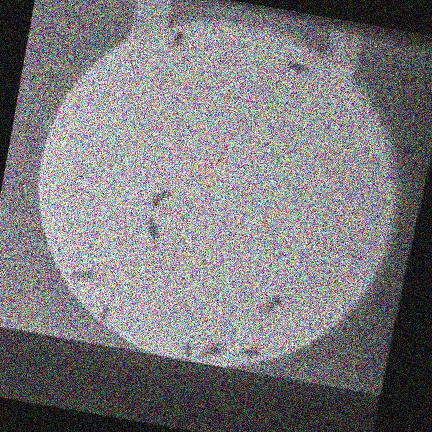fly: (259, 297, 281, 315), (148, 190, 168, 209), (199, 344, 224, 359), (285, 61, 311, 73), (147, 218, 159, 243), (239, 347, 262, 358), (70, 271, 94, 281), (172, 31, 185, 47), (99, 305, 109, 323), (183, 344, 193, 358)
